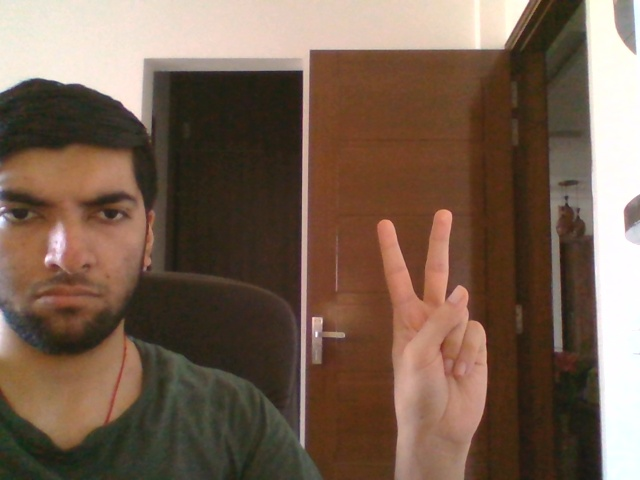LetterK: (375, 208, 489, 446)
